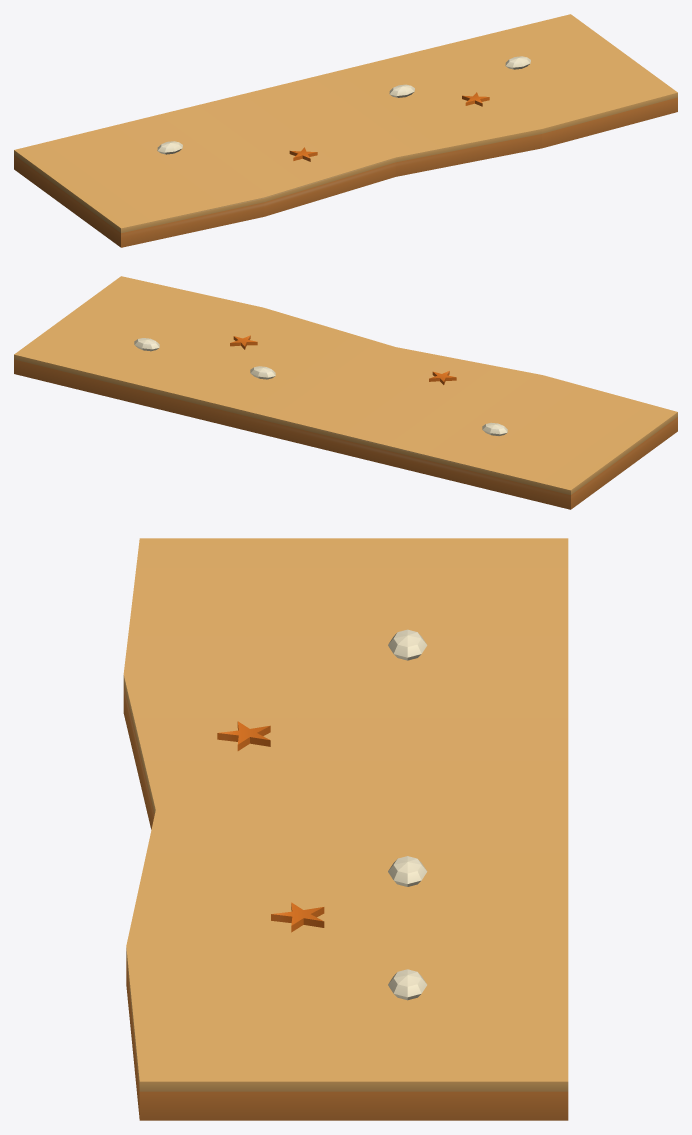
The model's file is BeachStrip.fbx.
3 renders of one model, top to bottom at view 1: azimuth 30°, elevation 25°; view 2: azimuth 150°, elevation 25°; view 3: azimuth 270°, elevation 25°, orthographic. The views are drawn at different scales.
Parts seen in each view (by area): view 1: BeachStrip; view 2: BeachStrip; view 3: BeachStrip.
Boxes of the visible parts, x1,y1,x2,y2 form: BeachStrip: (14, 14, 677, 247); BeachStrip: (14, 276, 677, 509); BeachStrip: (123, 538, 568, 1120).
Size of the model in its own units: 24 by 1.13 by 8.3.
1 material, 1 textured.
